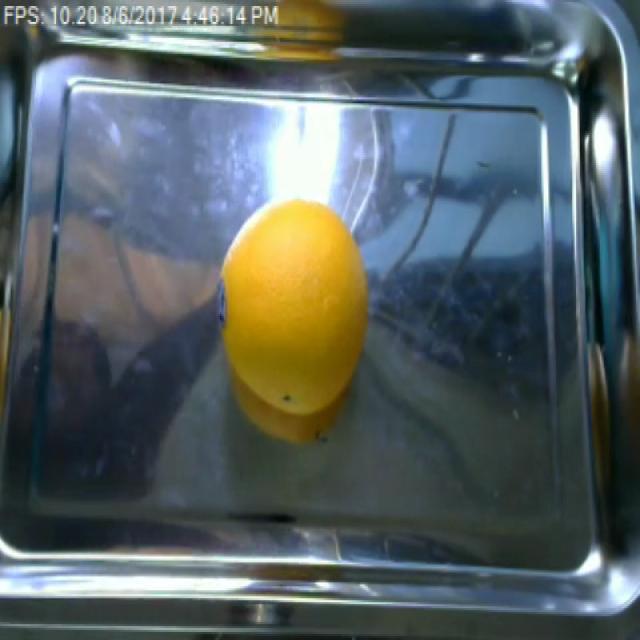Fruit: (214, 191, 374, 447), (264, 0, 353, 34)
